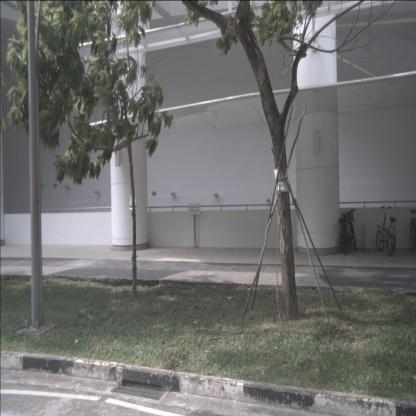vehicle-bicycle: (338, 207, 358, 256), (408, 208, 416, 252)
